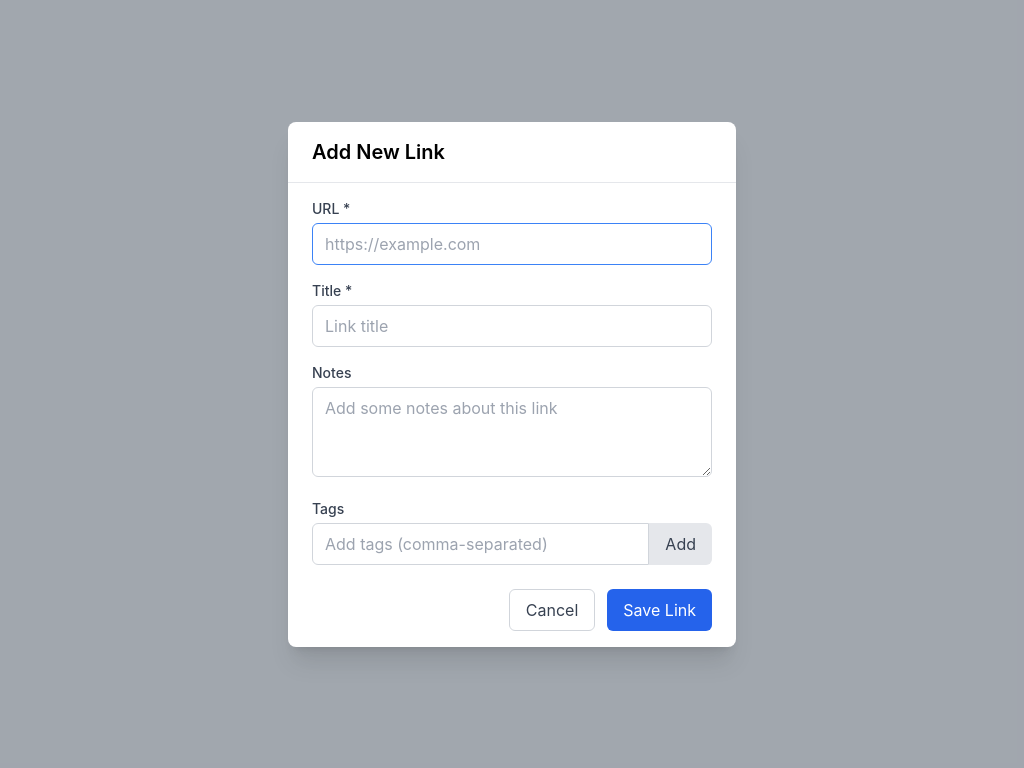
Scenario: Tag Input Functionality › should remove the last tag when pressing Backspace with empty input
The width and height of the screenshot is (1024, 768).
Note: Add a tag first
Type "redux" into the field with placeholder "Add tags (comma-separated)".
click(481, 544); type("redux")  # box [312,522,649,564]
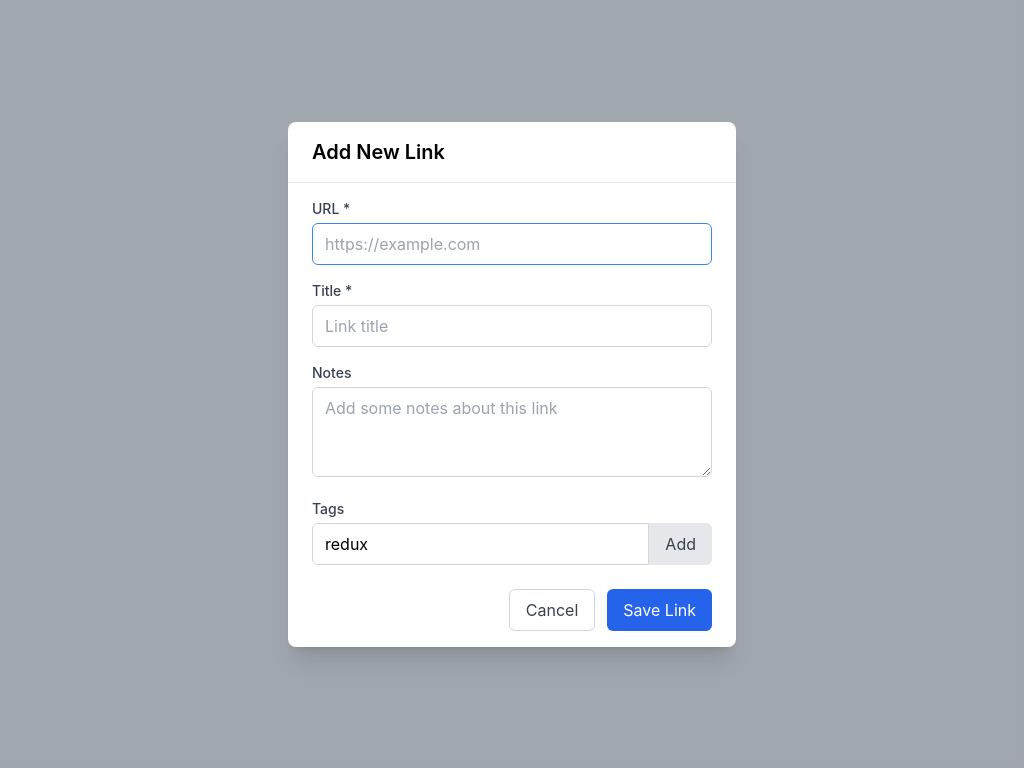
Press Enter in the field with placeholder "Add tags (comma-separated)", box [312,522,649,564]
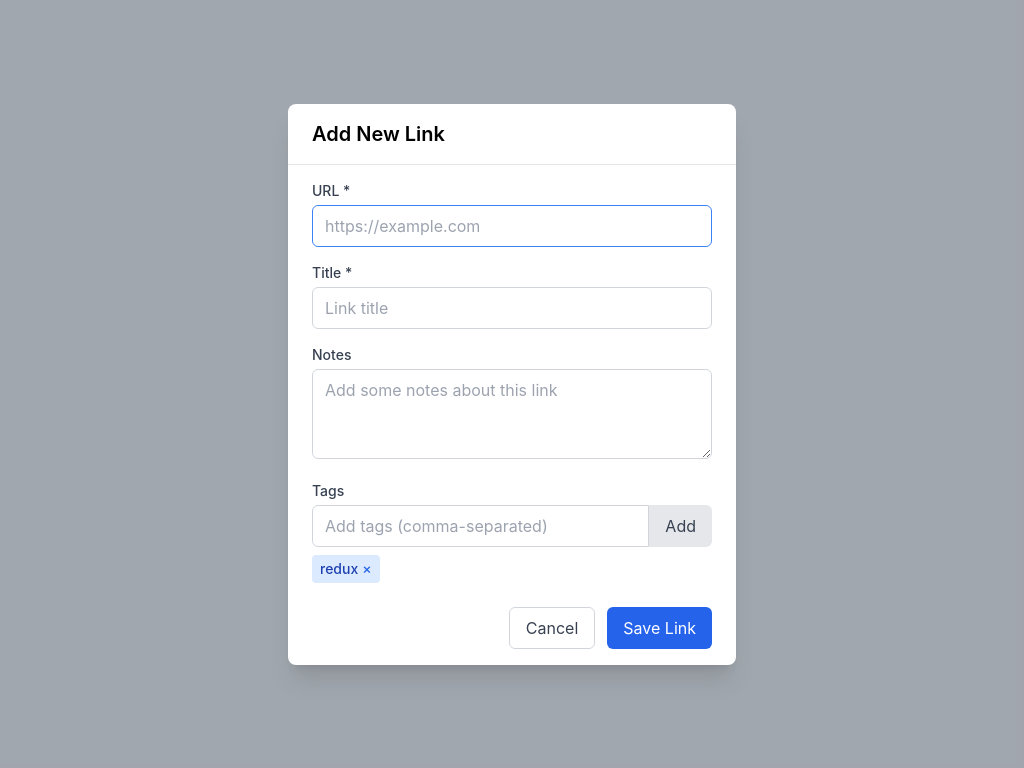
Expected: the text "redux" is shown, [320,560,358,576]
Note: Press Backspace with empty input
Press Backspace in the field with placeholder "Add tags (comma-separated)", box [312,504,649,546]
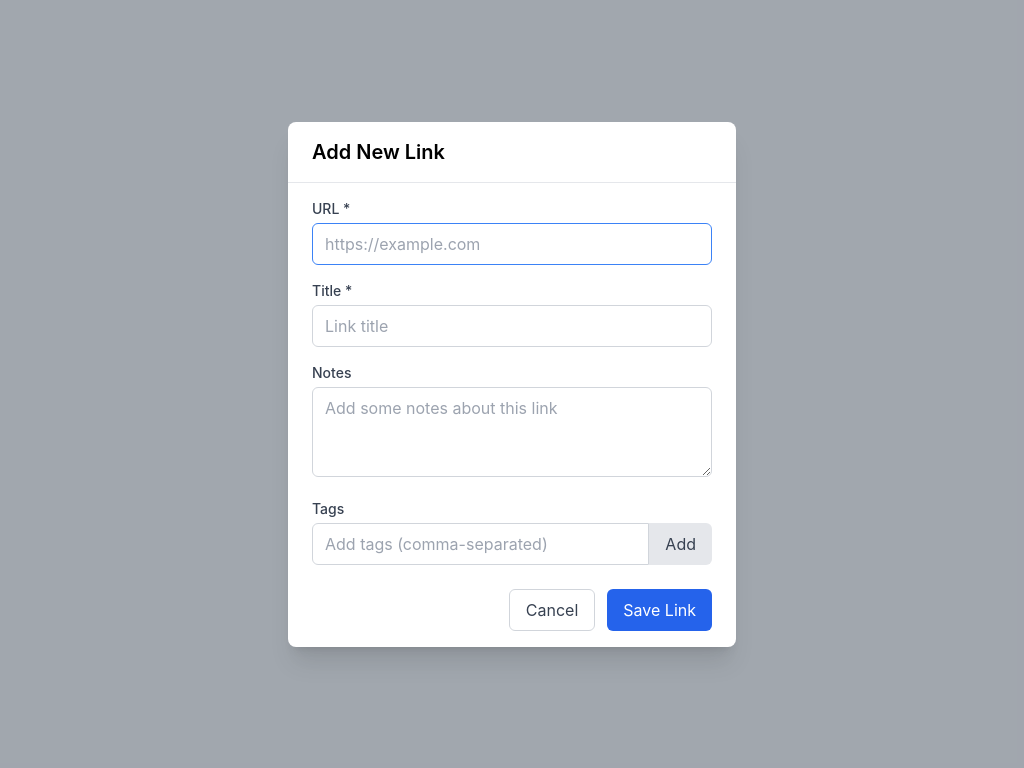
Expected: the text "redux" is gone
